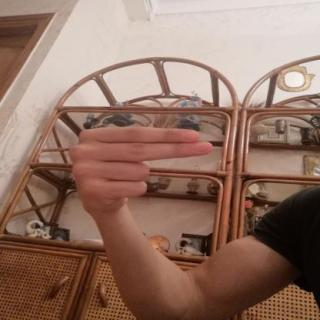AYN: (55, 115, 228, 222)
